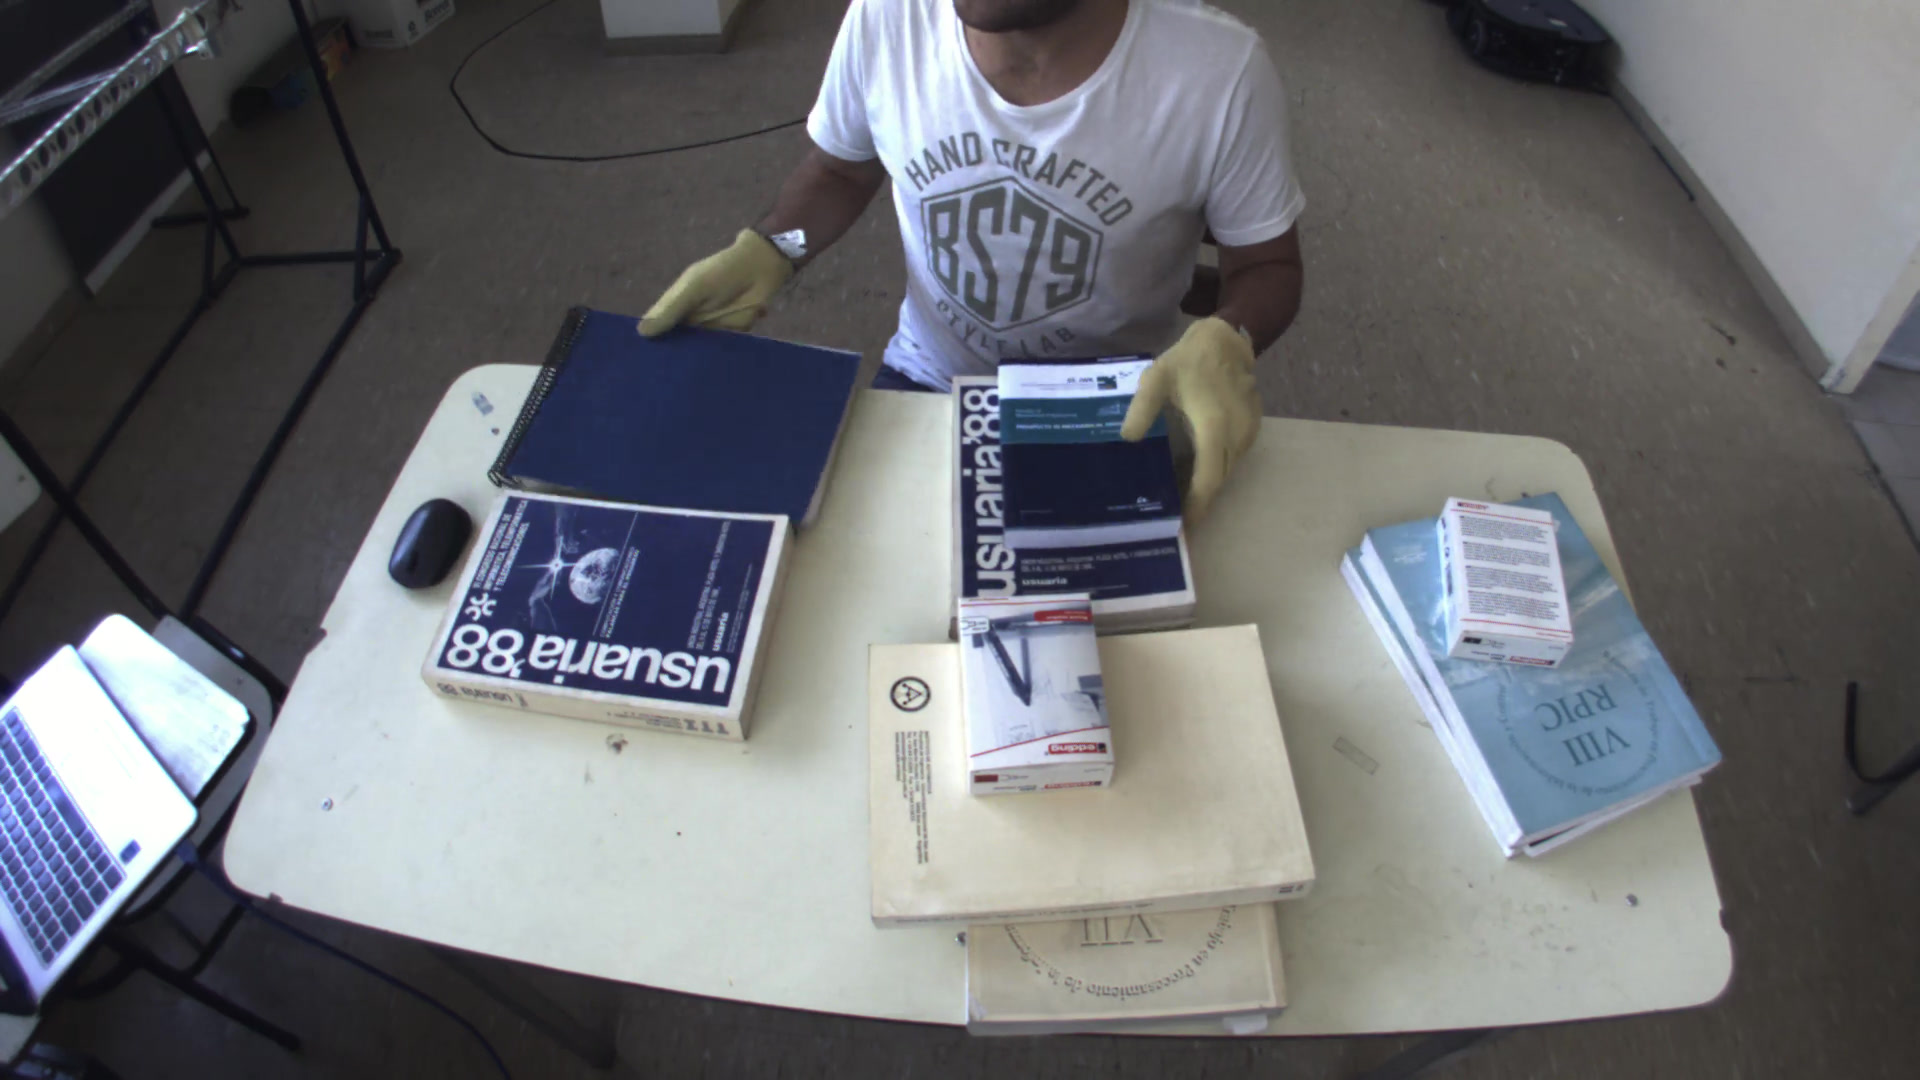hand: (1127, 305, 1275, 512), (626, 214, 796, 339)
